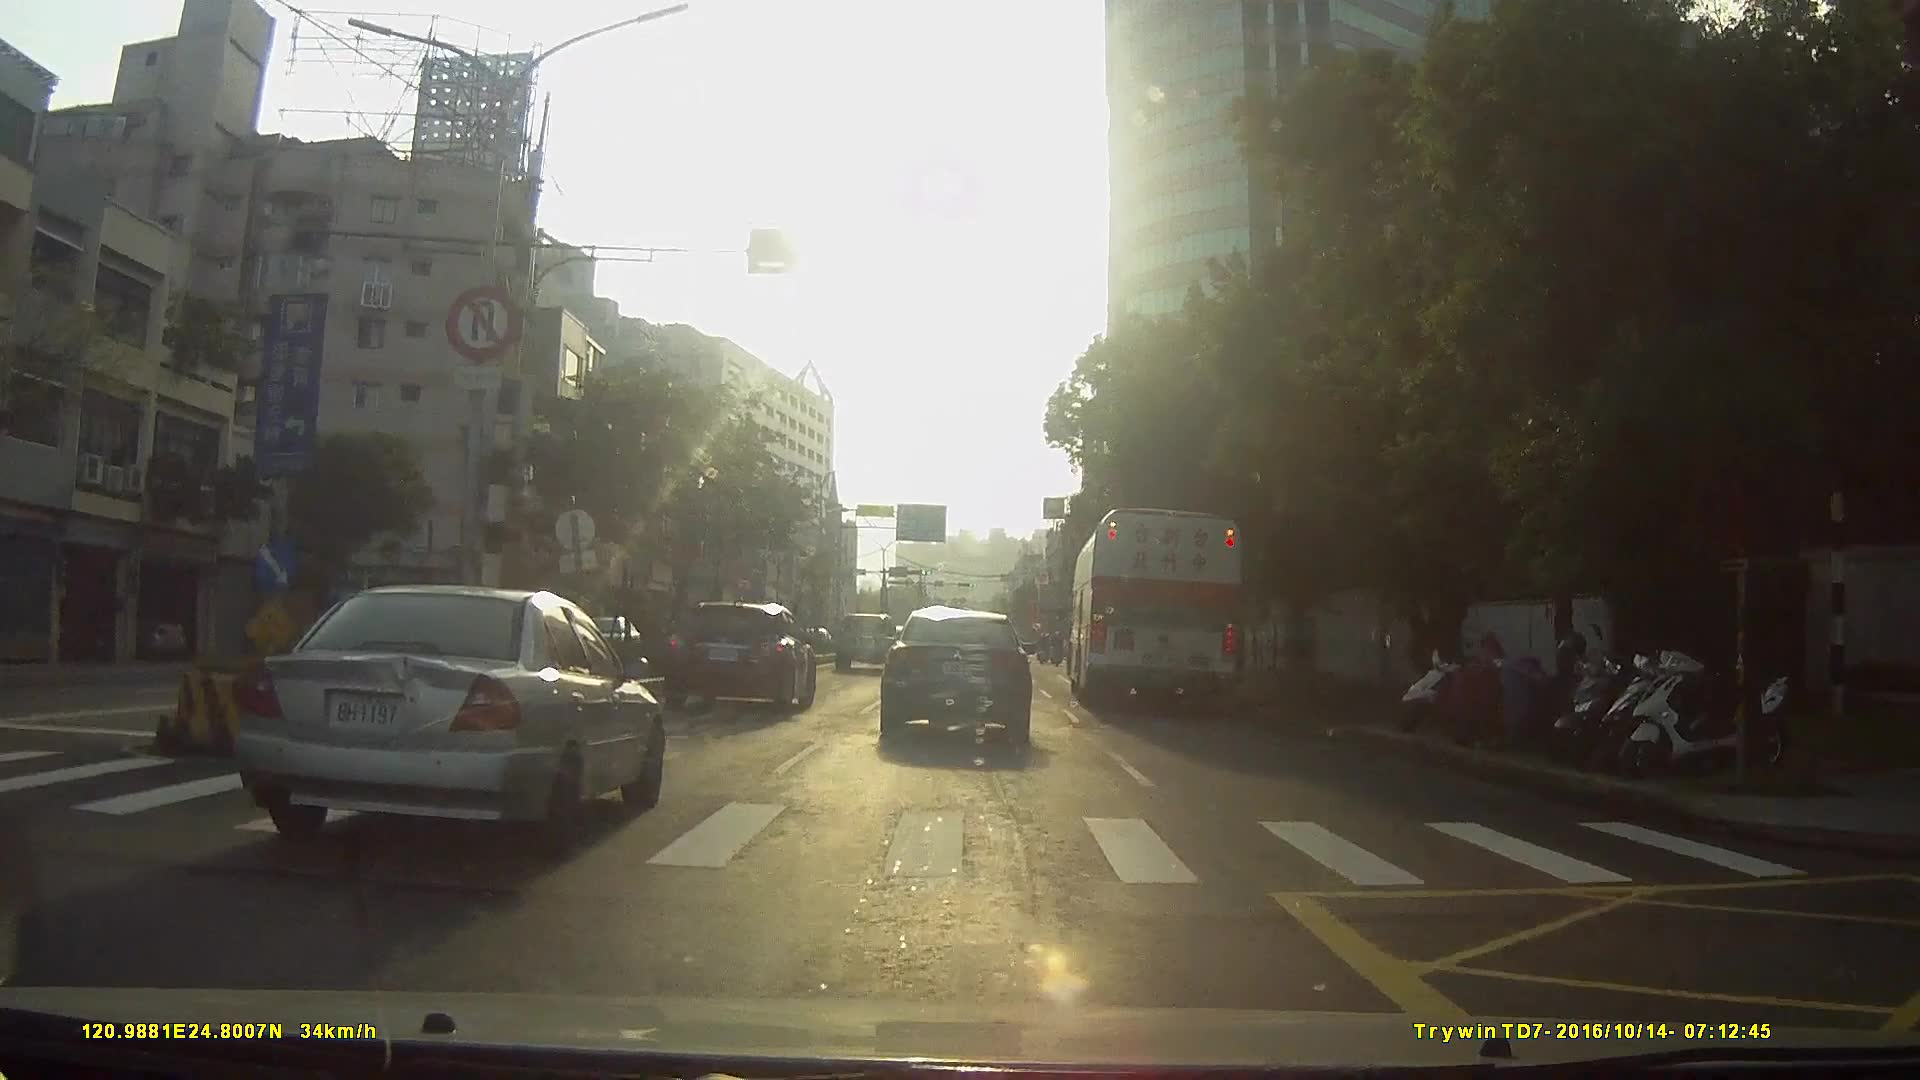vehicle: (223, 582, 659, 857), (1068, 504, 1245, 713), (878, 611, 1033, 752), (665, 603, 818, 720), (832, 611, 899, 673)
